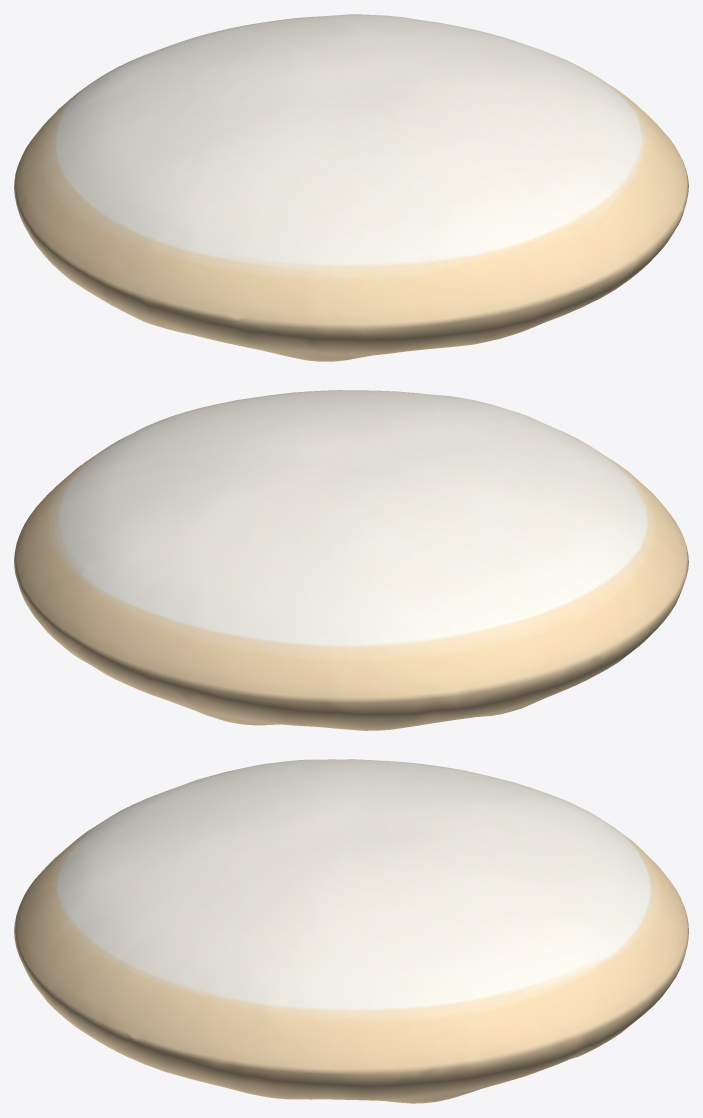
3 renders of one model, top to bottom at view 1: azimuth 30°, elevation 25°; view 2: azimuth 150°, elevation 25°; view 3: azimuth 270°, elevation 25°, orthographic.
Bounding box in the file's own units: 0.9995 × 0.3354 × 0.9956.
Materials: 1 (1 with a texture image).
